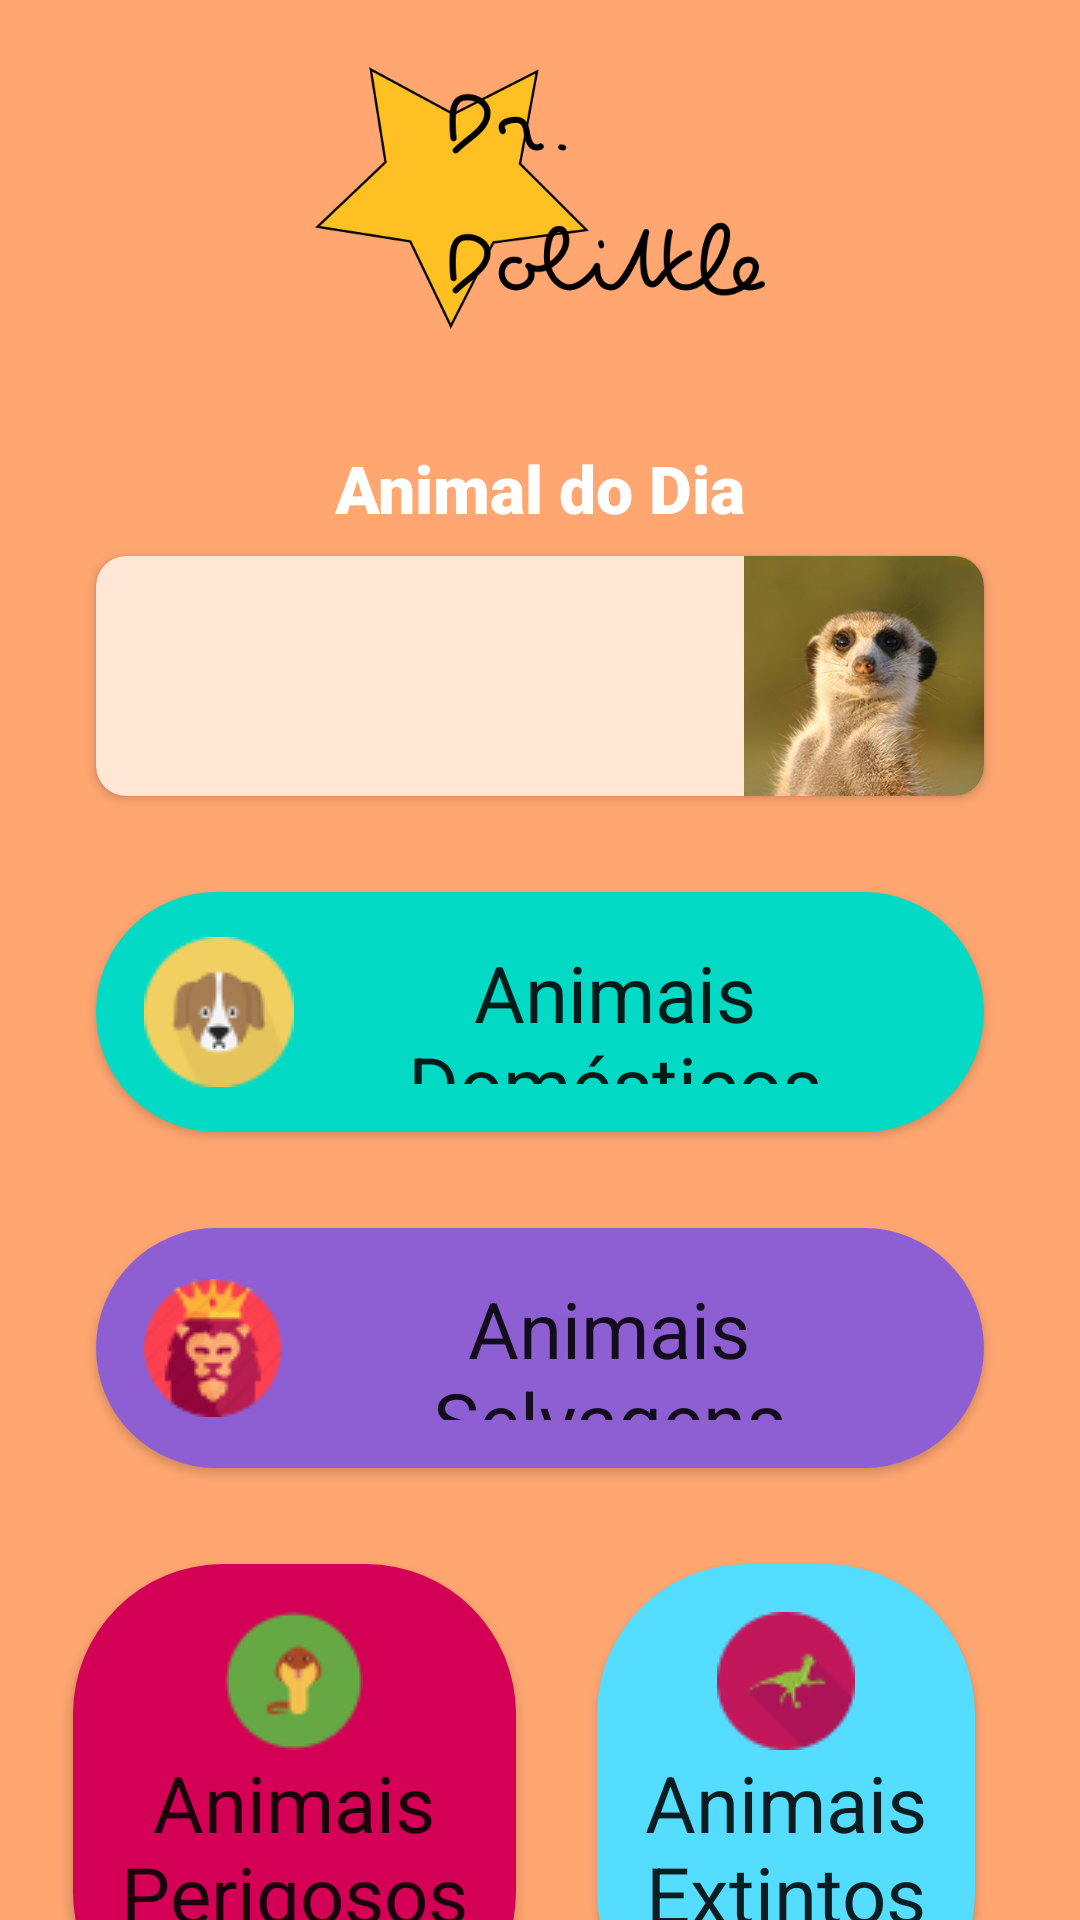

Where to tap for icons on this 1080w x 1920h app screen, as (x=x, y=y):
Animal escolhido diariamente: (x=864, y=676)
